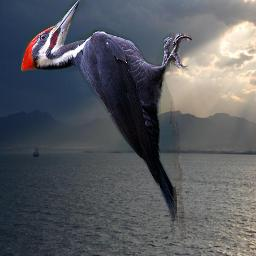Woodpecker: (21, 0, 192, 241)
